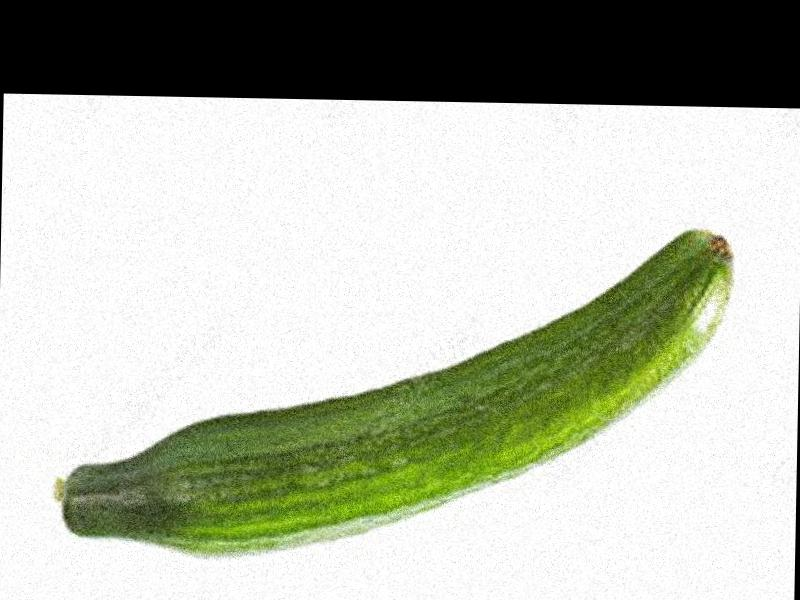Cucumber: (50, 215, 733, 566)
